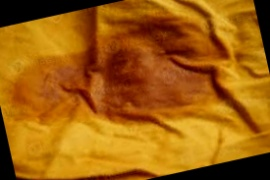oil: (13, 7, 237, 141)
